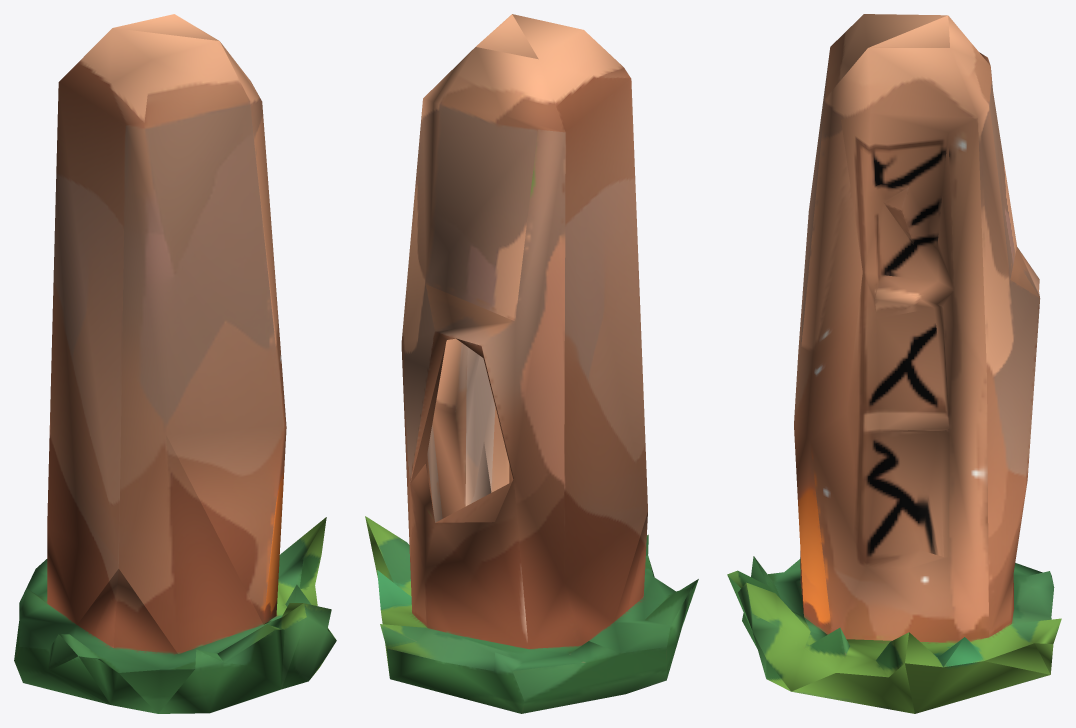
File: standing-stone.glb
3 views of the same model, side by side, from view 1: azimuth 30°, elevation 25°; view 2: azimuth 150°, elevation 25°; view 3: azimuth 270°, elevation 25° (orthographic).
Parts seen in each view (by area): view 1: geometry_0; view 2: geometry_0; view 3: geometry_0.
Part boxes in pixels (x1,y1,x2,y2): geometry_0: [14, 14, 336, 713]; geometry_0: [365, 14, 698, 713]; geometry_0: [727, 14, 1061, 713].
Size of the model in its own units: 0.5207 by 0.9936 by 0.4899.
Materials: 1 (1 with a texture image).
